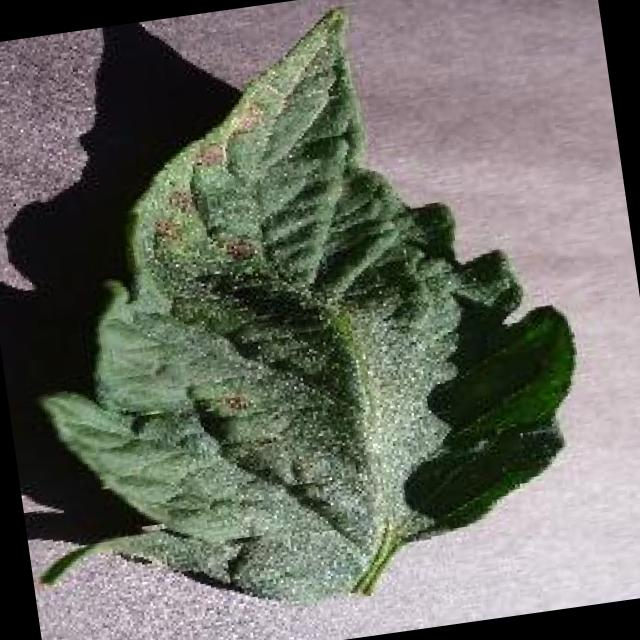Tomato_Early_Blight: (29, 12, 486, 597)
